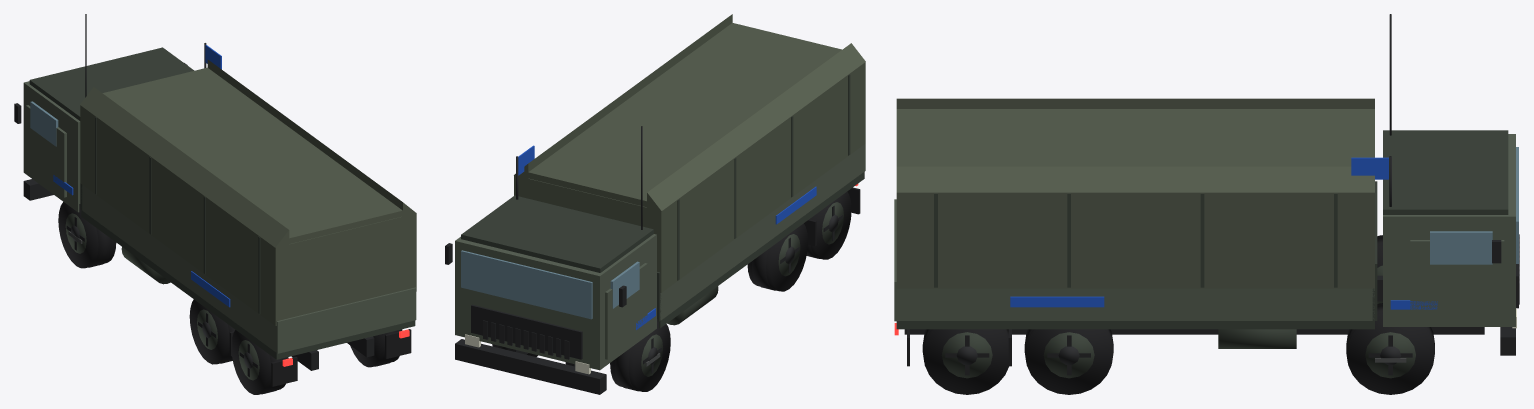
The model's file is Truck_Blue.fbx.
The picture shows the model from 3 angles, left to right: view 1: azimuth 30°, elevation 25°; view 2: azimuth 150°, elevation 25°; view 3: azimuth 270°, elevation 25°; orthographic projection. The views are drawn at different scales.
Parts seen in each view (by area): view 1: Canvas, CanvasRoof, CanvasEaveL, BedSideL, Tailgate, CabRoof, Cab, BedFloor, DoorL1Panel, CanvasEaveR, TyreL1, TyreL3 (+14 smaller); view 2: CanvasRoof, Canvas, Cab, CabRoof, CanvasEaveL, BedSideL, Windshield, Bumper, GrilleFront, DoorL1Panel, CanvasEaveR, BedFloor (+11 smaller); view 3: Canvas, CanvasRoof, BedSideR, CanvasEaveR, CabRoof, Cab, DoorR1Panel, CanvasEaveL, BedFloor, TyreR1, TyreR2, TyreR3 (+8 smaller).
Boxes of the visible parts, bbox=[...] form: Canvas: bbox=[80, 105, 416, 325]; CanvasRoof: bbox=[102, 67, 402, 243]; CanvasEaveL: bbox=[80, 87, 289, 247]; BedSideL: bbox=[81, 185, 276, 352]; Tailgate: bbox=[276, 287, 416, 353]; CabRoof: bbox=[29, 47, 194, 120]; Cab: bbox=[23, 81, 80, 212]; BedFloor: bbox=[81, 210, 415, 359]; DoorL1Panel: bbox=[26, 105, 66, 197]; CanvasEaveR: bbox=[207, 59, 416, 216]; TyreL1: bbox=[58, 202, 116, 268]; TyreL3: bbox=[232, 330, 288, 394]; CanvasRoof: bbox=[528, 23, 841, 207]; Canvas: bbox=[514, 62, 865, 292]; Cab: bbox=[455, 234, 656, 370]; CabRoof: bbox=[461, 195, 653, 272]; CanvasEaveL: bbox=[647, 43, 865, 210]; BedSideL: bbox=[660, 145, 864, 320]; Windshield: bbox=[461, 250, 592, 319]; Bumper: bbox=[455, 339, 606, 394]; GrilleFront: bbox=[471, 304, 582, 359]; DoorL1Panel: bbox=[605, 263, 647, 359]; CanvasEaveR: bbox=[514, 14, 732, 178]; BedFloor: bbox=[658, 171, 864, 328]; Canvas: bbox=[896, 192, 1374, 288]; CanvasRoof: bbox=[896, 109, 1374, 166]; BedSideR: bbox=[896, 288, 1374, 320]; CanvasEaveR: bbox=[896, 166, 1374, 192]; CabRoof: bbox=[1383, 130, 1508, 214]; Cab: bbox=[1383, 134, 1515, 326]; DoorR1Panel: bbox=[1410, 240, 1504, 319]; CanvasEaveL: bbox=[896, 98, 1374, 108]; BedFloor: bbox=[896, 321, 1374, 329]; TyreR1: bbox=[1346, 303, 1434, 394]; TyreR2: bbox=[1025, 329, 1112, 394]; TyreR3: bbox=[923, 329, 1008, 394].
Size of the model in its own units: 306 by 798 by 430.
